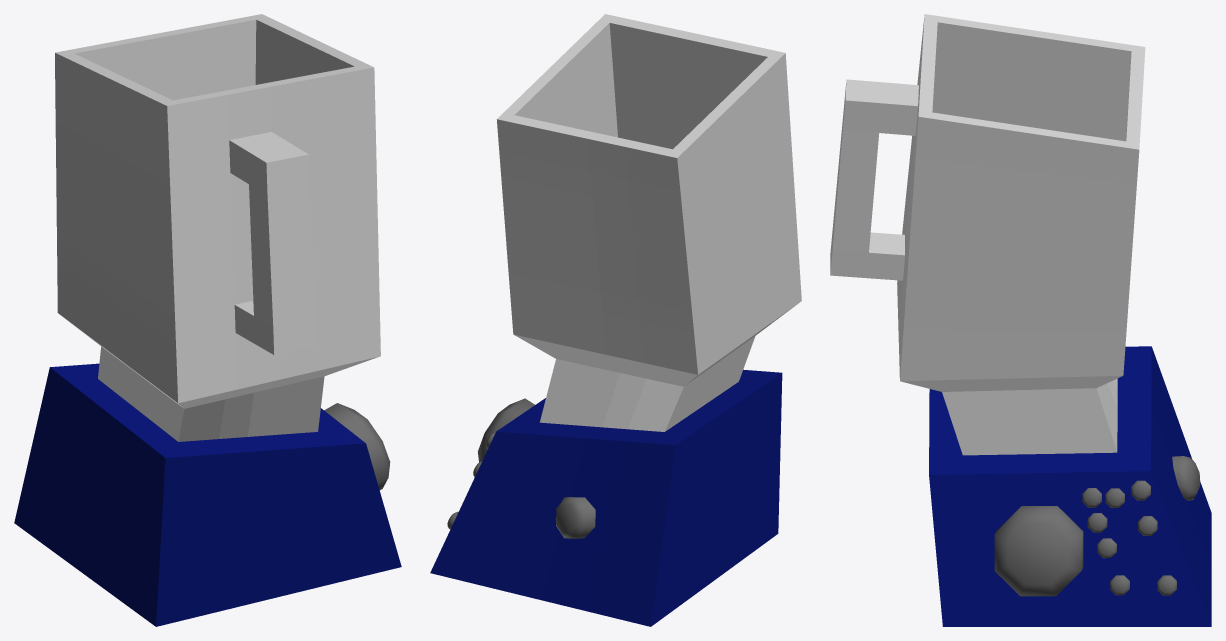
Rendered from blender.glb.
3 views of the same model, side by side, from view 1: azimuth 30°, elevation 25°; view 2: azimuth 150°, elevation 25°; view 3: azimuth 270°, elevation 25° (orthographic). The views are drawn at different scales.
Parts seen in each view (by area): view 1: Cube.001; view 2: Cube.001; view 3: Cube.001.
Part boxes in pixels (x1,y1,x2,y2): Cube.001: (14,14,401,626); Cube.001: (430,14,801,626); Cube.001: (830,14,1211,626).
Size of the model in its own units: 3.19 by 5.77 by 3.99.
